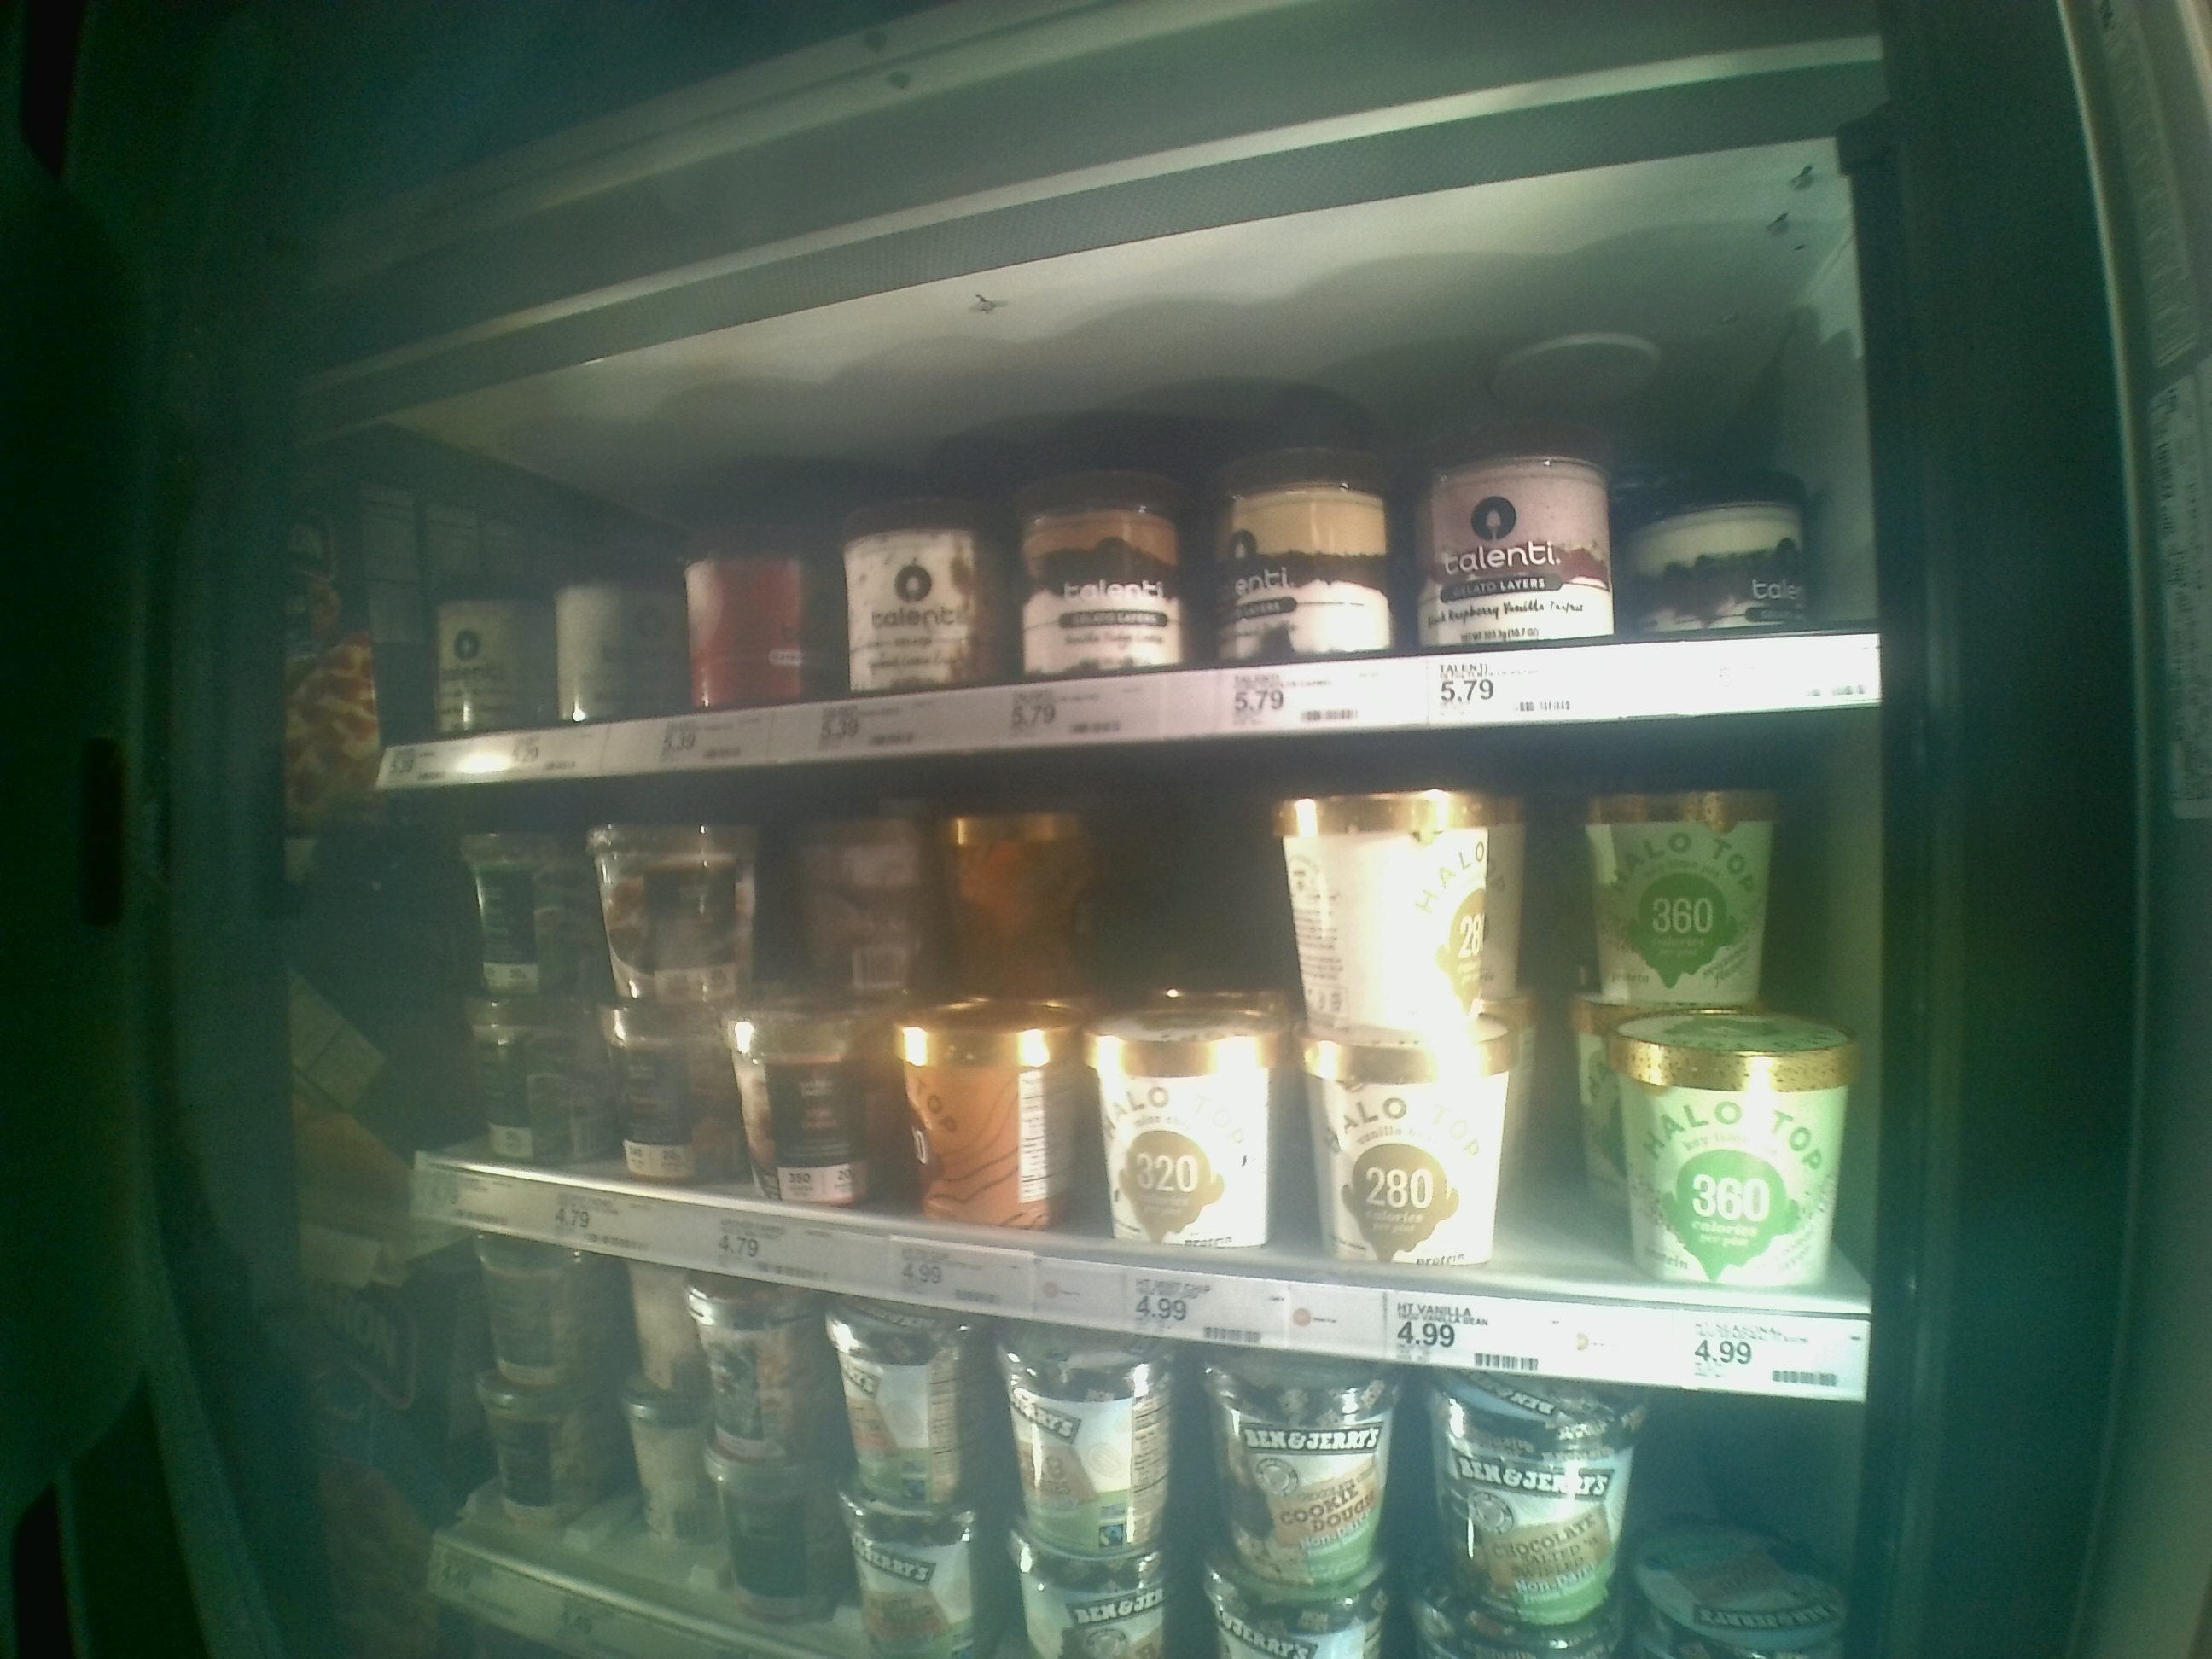shelf: (394, 706, 1879, 1410), (369, 260, 1890, 784)
